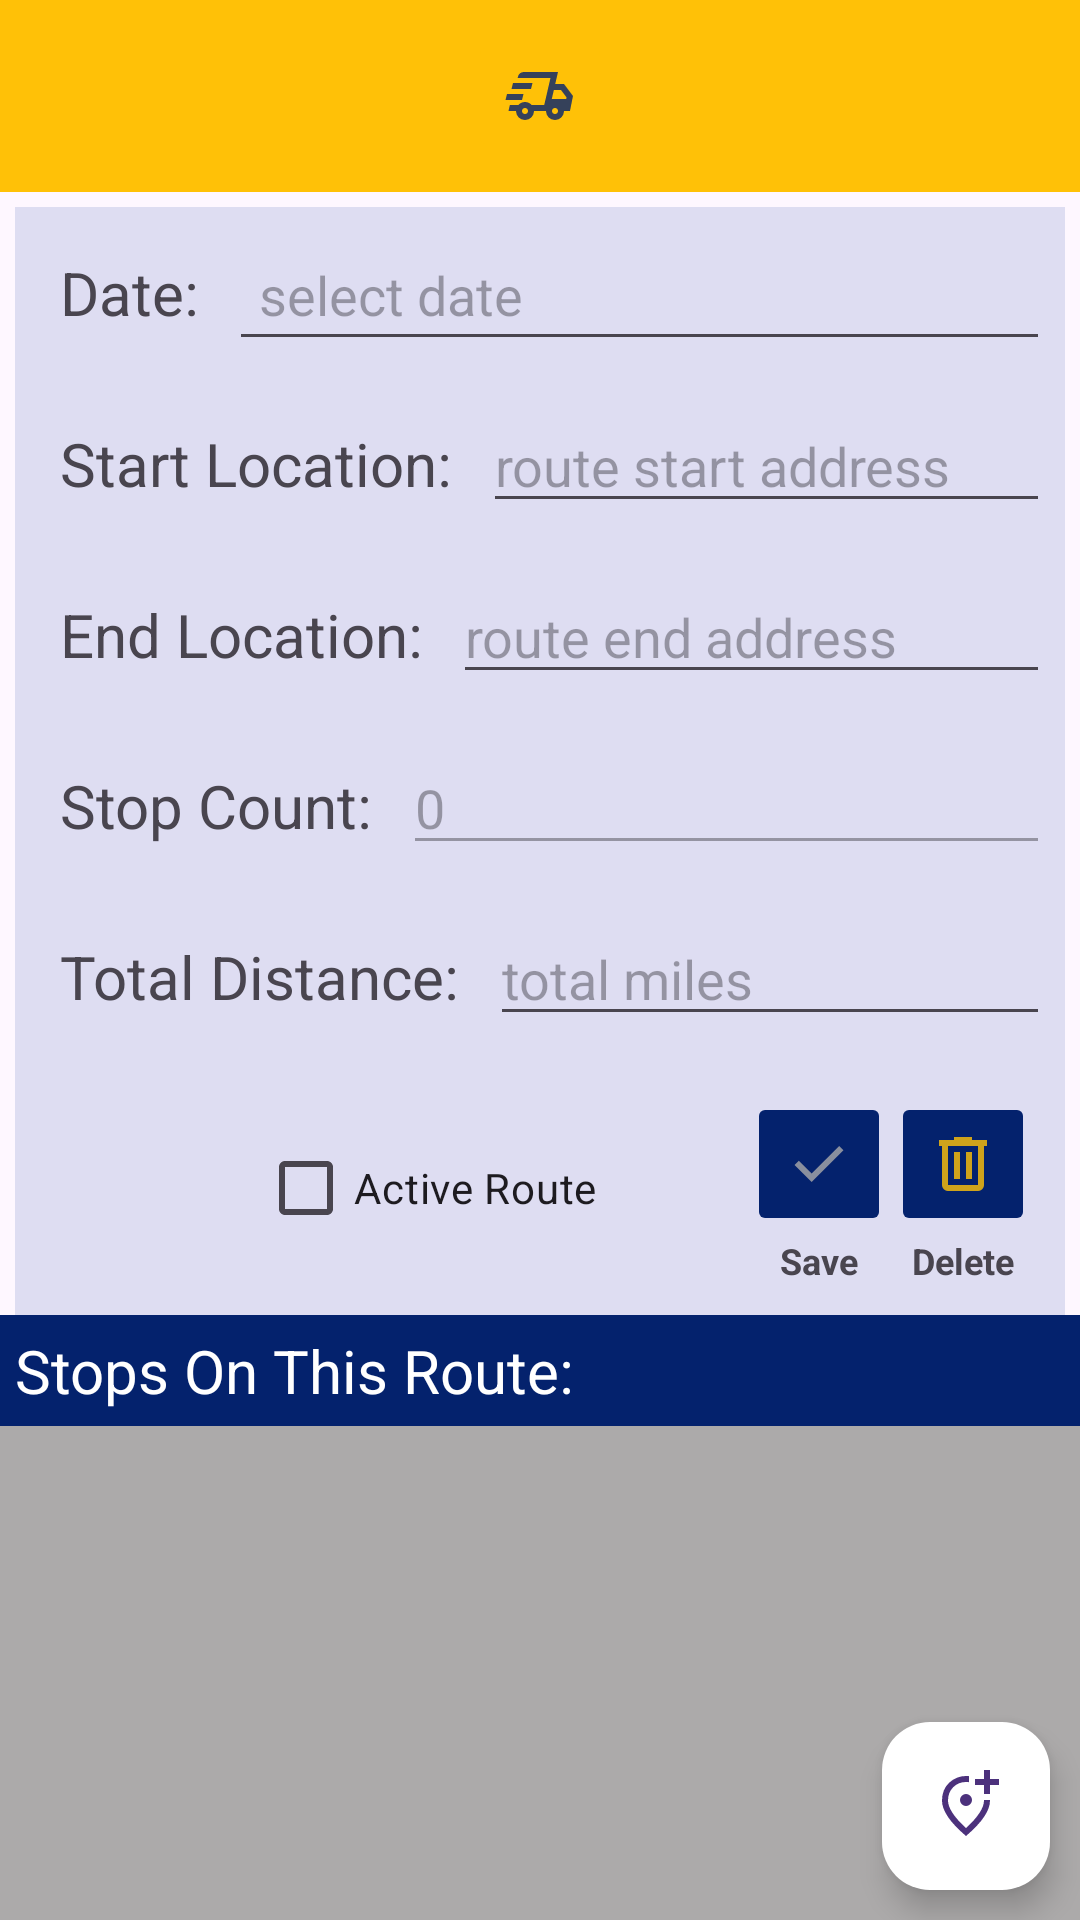

Locate icon controls on the screen. Image size 1080w x 1920h, boxes as (x1, y1, x2, y2).
add route: (882, 1722, 1050, 1890)
check mark: (759, 1110, 879, 1218)
delivery truck speed: (505, 72, 573, 120)
